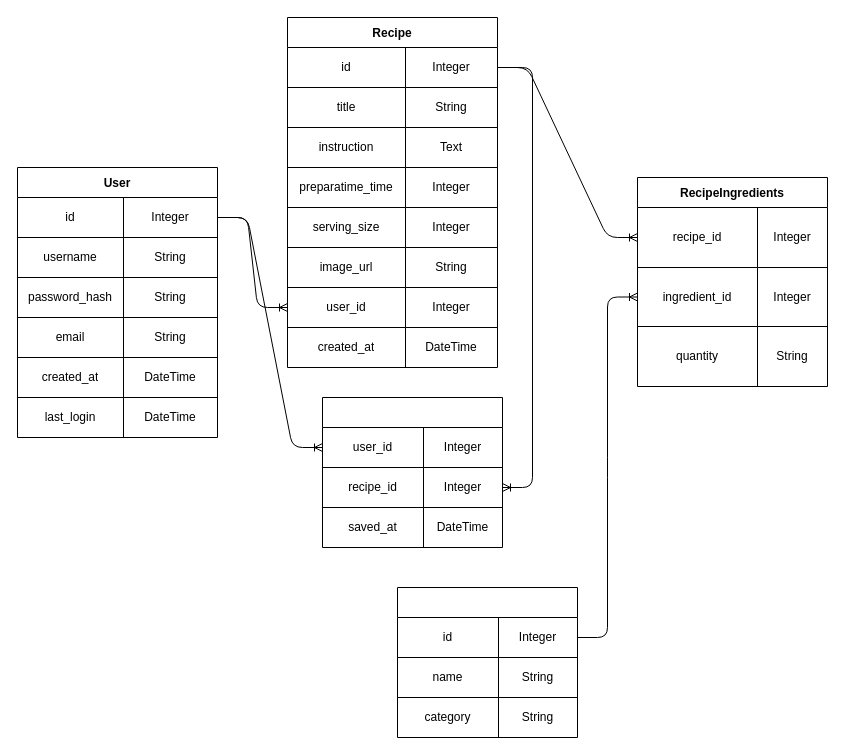
The diagram is 845 pixels wide and 755 high, and some of its shapes have lost their labels. Each missing label, with the box of its shape:
Ingredient: (396, 586, 578, 738)
SavedRecipes: (322, 396, 502, 548)
